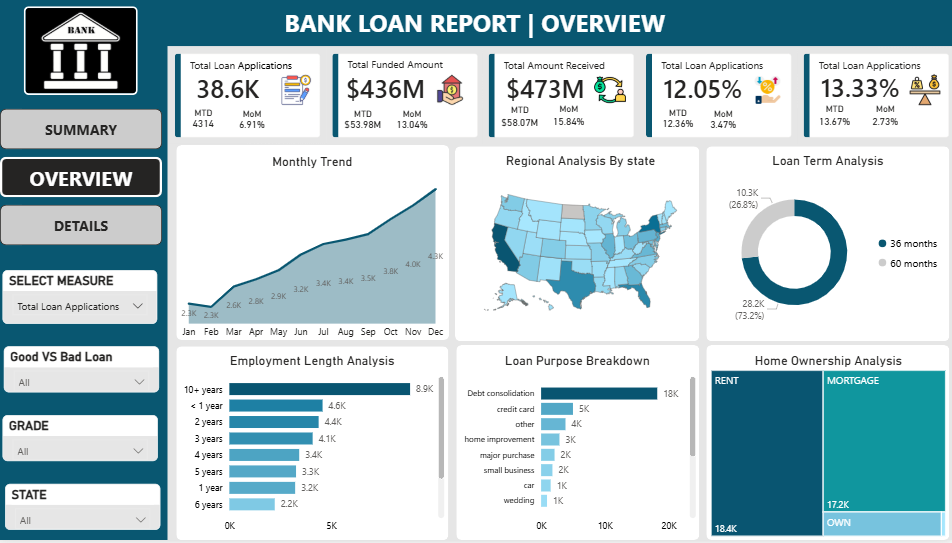

What the dashboard file says about the page in this screenshot:
{"tool":"powerbi","page":{"name":"OVERVIEW","canvas":[1280,720],"ordinal":1},"visuals":[{"type":"shape","box":[0,0,230,720],"z":0},{"type":"cardVisual","fields":{"Data":["financial_loan.Avg DTI"]},"box":[1070,63,210,128.8],"z":0,"group":"g4"},{"type":"cardVisual","fields":{"Data":["financial_loan.Total Loan Applications"]},"box":[231.7,63.3,210,128],"z":0,"group":"g1"},{"type":"cardVisual","fields":{"Data":["financial_loan.Total Amount Received"]},"box":[650,63.8,210,128.8],"z":0,"group":"g2"},{"type":"cardVisual","fields":{"Data":["financial_loan.Avg Interest Rate"]},"box":[860,63.8,210,128.8],"z":0,"group":"g3"},{"type":"textbox","box":[1093.3,72.3,169,31.9],"z":1000,"group":"g4"},{"type":"textbox","box":[255,72.6,169,31.7],"z":1000,"group":"g1"},{"type":"textbox","box":[673.3,73.1,169,31.9],"z":1000,"group":"g2"},{"type":"textbox","box":[883.3,73.1,169,31.9],"z":1000,"group":"g3"},{"type":"shape","box":[241.4,194,364,260],"z":1000},{"type":"shape","box":[0,0,1280,61.4],"z":2000},{"type":"card","title":"MTD","fields":{"Values":["financial_loan.MTD DTI"]},"box":[1093.3,138.6,52.2,41.1],"z":2000,"group":"g4"},{"type":"card","title":"MTD","fields":{"Values":["financial_loan.MTD Total Amount Received"]},"box":[668.6,139.7,62.9,41.4],"z":2000,"group":"g2"},{"type":"card","title":"MTD","fields":{"Values":["financial_loan.MTD Loan Applications"]},"box":[255,143.7,45.5,35.8],"z":2000,"group":"g1"},{"type":"card","title":"MTD","fields":{"Values":["financial_loan.MTD Interest Rate"]},"box":[883.6,144,54.5,37.3],"z":2000,"group":"g3"},{"type":"cardVisual","fields":{"Data":["financial_loan.Total Funded Amount"]},"box":[441,63,210,128.8],"z":3000},{"type":"card","title":"MoM","fields":{"Values":["financial_loan.MOM Total Amount Received"]},"box":[737.8,138.5,53.3,42.2],"z":3000,"group":"g2"},{"type":"card","title":"MoM","fields":{"Values":["financial_loan.MOM DTI"]},"box":[1161.1,138.6,51.1,41.1],"z":3000,"group":"g4"},{"type":"card","title":"MoM","fields":{"Values":["financial_loan.MOM Loan Applications"]},"box":[319.7,144.3,45.5,35.5],"z":3000,"group":"g1"},{"type":"card","title":"MoM","fields":{"Values":["financial_loan.MOM Interest Rate"]},"box":[948,145.3,45.5,35.7],"z":3000,"group":"g3"},{"type":"textbox","box":[361.4,2.9,555.7,55.7],"z":4000},{"type":"textbox","box":[464.3,72.3,169,31.9],"z":5000},{"type":"card","title":"MTD","fields":{"Values":["financial_loan.MTD Funded Amount"]},"box":[458.6,144.3,64.3,35.7],"z":6000},{"type":"card","title":"MoM","fields":{"Values":["financial_loan.MOM Funded Amount"]},"box":[529.3,144.3,52.1,35.7],"z":7000},{"type":"group","id":"g1","title":"Group 1","box":[231.7,63.3,210,128],"z":8000},{"type":"group","id":"g2","title":"Group 1","box":[650,63.8,210,128.8],"z":9000},{"type":"group","id":"g3","title":"Group 1","box":[860,63.8,210,128.8],"z":10000},{"type":"group","id":"g4","title":"Group 1","box":[1070,63,210,128.8],"z":11000},{"type":"slicer","title":"STATE","fields":{"Values":["financial_loan.address_state"]},"box":[12.9,644.3,207.1,61.4],"z":12000},{"type":"slicer","title":"GRADE","fields":{"Values":["financial_loan.grade"]},"box":[10,552.9,207.1,61.4],"z":13000},{"type":"slicer","title":"Good VS Bad Loan","fields":{"Values":["financial_loan.Good VS Bad Loan"]},"box":[11.4,461.6,207.1,61.4],"z":14000},{"type":"shape","box":[614,194.3,325.7,260],"z":15000},{"type":"shape","box":[948.6,194.3,324.3,260],"z":16000},{"type":"shape","box":[241.4,461.4,362.9,258.6],"z":17000},{"type":"shape","box":[614.3,460,324.3,260],"z":18000},{"type":"shape","box":[948.6,460,324.3,260],"z":19000},{"type":"stackedAreaChart","title":"Monthly Trend ","fields":{"Y":["financial_loan.Total Loan Applications"],"Category":["Date Table.Month"]},"box":[241.4,204.3,362.9,255.7],"z":20000},{"type":"slicer","title":"SELECT MEASURE","fields":{"Values":["Select Measure.Select Measure"]},"box":[10,360,206.7,71.7],"z":21000},{"type":"shapeMap","title":"Regional Analysis By state","fields":{"Category":["financial_loan.address_state"]},"box":[632.5,203.8,295,247.5],"z":22000},{"type":"donutChart","title":"Loan Term Analysis","fields":{"Y":["financial_loan.Total Loan Applications"],"Category":["financial_loan.term"]},"box":[950,203.8,321,247.5],"z":23000},{"type":"barChart","title":"Employment Length Analysis","fields":{"Y":["financial_loan.Total Loan Applications"],"Category":["financial_loan.emp_length"]},"box":[241.2,470,362.5,250],"z":24000},{"type":"barChart","title":"Loan Purpose Breakdown","fields":{"Y":["financial_loan.Total Loan Applications"],"Category":["financial_loan.purpose"]},"box":[613.8,470,326.2,250],"z":25000},{"type":"treemap","title":"Home Ownership Analysis","fields":{"Values":["financial_loan.Total Loan Applications"],"Group":["financial_loan.home_ownership"]},"box":[950,470,322.5,250],"z":26000},{"type":"pageNavigator","box":[6,145,216.7,183.3],"z":27001},{"type":"image","box":[38.3,8.3,151.7,118.3],"z":27002}]}

Visuals, with their boxes in screenshot pixels (x1, y1, x2, y2), scaled from the page's 1280x720 canvas onto the 952x543 screenshot:
shape: 0,0,171,542
cardVisual - financial_loan.Avg DTI: 796,48,951,145
cardVisual - financial_loan.Total Loan Applications: 172,48,329,144
cardVisual - financial_loan.Total Amount Received: 483,48,640,145
cardVisual - financial_loan.Avg Interest Rate: 640,48,796,145
textbox: 813,55,939,79
textbox: 190,55,315,79
textbox: 501,55,626,79
textbox: 657,55,783,79
shape: 180,146,450,342
shape: 0,0,951,46
"MTD" card: 813,105,852,136
"MTD" card: 497,105,544,137
"MTD" card: 190,108,223,135
"MTD" card: 657,109,698,137
cardVisual - financial_loan.Total Funded Amount: 328,48,484,145
"MoM" card: 549,104,588,136
"MoM" card: 864,105,902,136
"MoM" card: 238,109,272,136
"MoM" card: 705,110,739,137
textbox: 269,2,682,44
textbox: 345,55,471,79
"MTD" card: 341,109,389,136
"MoM" card: 394,109,432,136
"Group 1" group: 172,48,329,144
"Group 1" group: 483,48,640,145
"Group 1" group: 640,48,796,145
"Group 1" group: 796,48,951,145
"STATE" slicer: 10,486,164,532
"GRADE" slicer: 7,417,161,463
"Good VS Bad Loan" slicer: 8,348,163,394
shape: 457,147,699,343
shape: 706,147,947,343
shape: 180,348,449,542
shape: 457,347,698,542
shape: 706,347,947,542
"Monthly Trend " stackedAreaChart: 180,154,449,347
"SELECT MEASURE" slicer: 7,272,161,326
"Regional Analysis By state" shapeMap: 470,154,690,340
"Loan Term Analysis" donutChart: 707,154,945,340
"Employment Length Analysis" barChart: 179,354,449,542
"Loan Purpose Breakdown" barChart: 457,354,699,542
"Home Ownership Analysis" treemap: 707,354,946,542
pageNavigator: 4,109,166,248
image: 28,6,141,95
